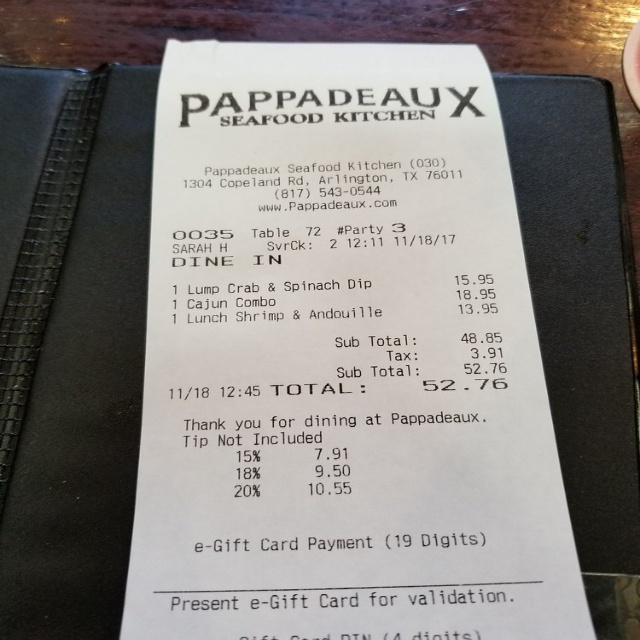invoice_table: (172, 273, 497, 322)
invoice_title: (181, 156, 467, 213)
invoice_total: (268, 375, 507, 398)
